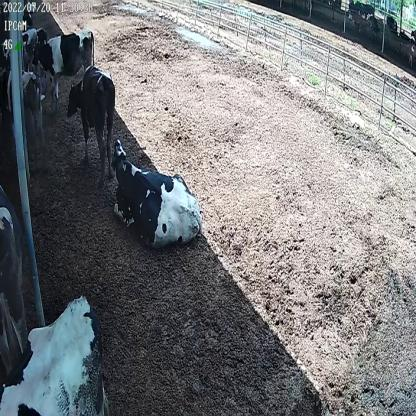cow: (111, 134, 204, 249), (66, 66, 116, 180), (31, 27, 96, 98)
